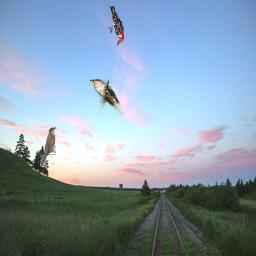Cuckoo: (90, 79, 125, 119), (40, 127, 56, 167)
Woodpecker: (108, 6, 124, 46)
